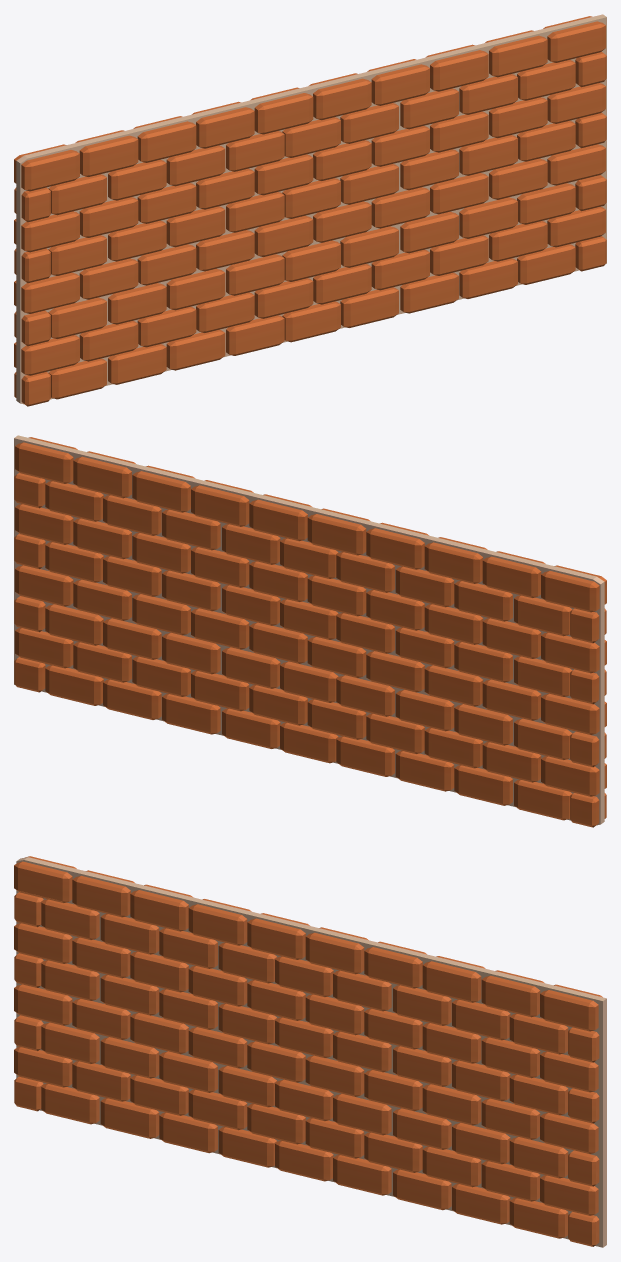
File: PAAAAAAARED.fbx
The picture shows the model from 3 angles, top to bottom: view 1: azimuth 30°, elevation 25°; view 2: azimuth 150°, elevation 25°; view 3: azimuth 330°, elevation 25°; orthographic projection.
Parts seen in each view (by area): view 1: Cube.067; view 2: Cube.067; view 3: Cube.067.
Boxes of the visible parts, x1,y1,x2,y2 form: Cube.067: [14, 14, 606, 406]; Cube.067: [14, 435, 606, 827]; Cube.067: [14, 856, 606, 1247].
Bounding box in the file's own units: 4324 × 1737 × 170.
Materials: 1 (1 with a texture image).
